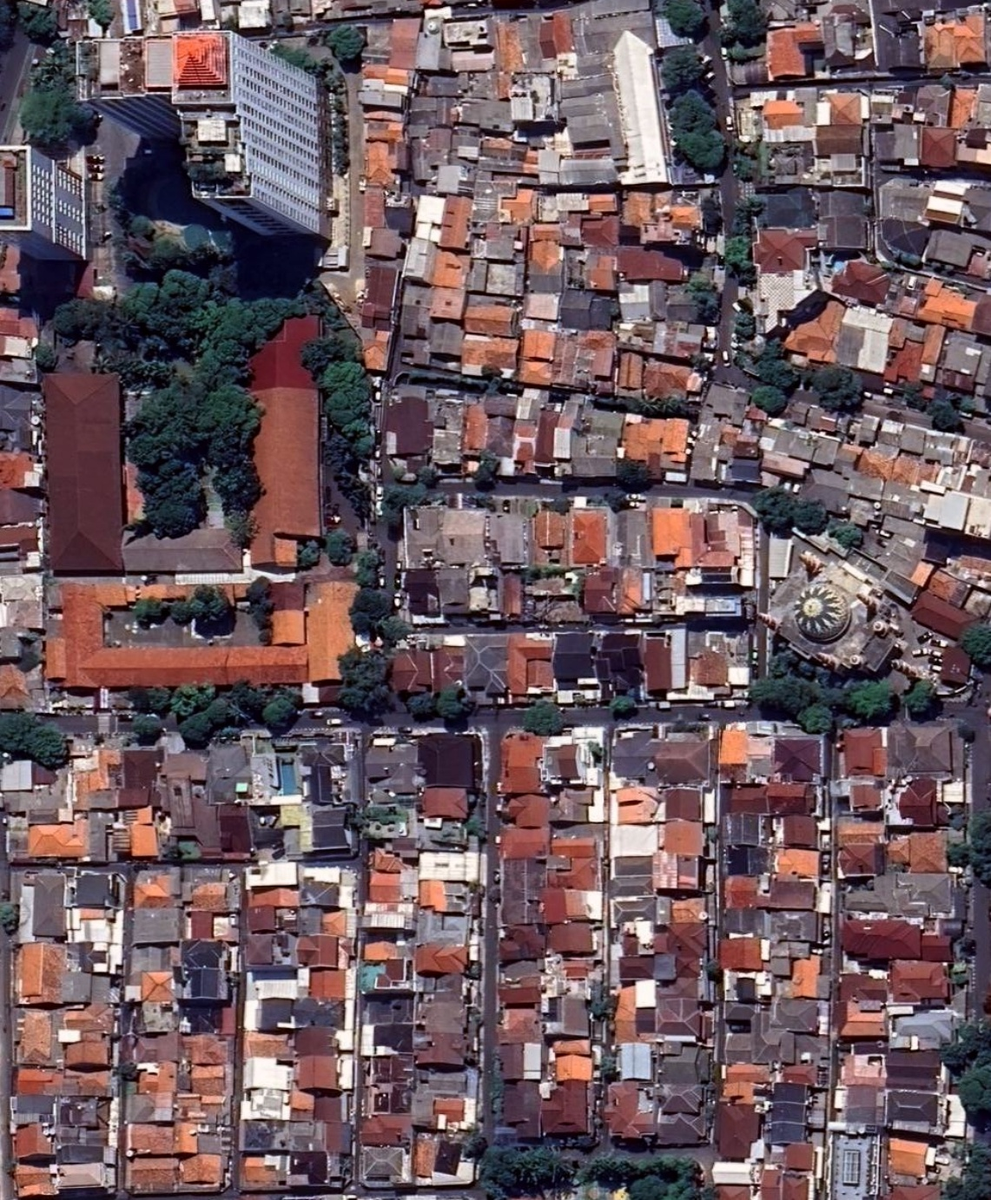building: (30, 0, 389, 261), (45, 580, 308, 684), (236, 304, 334, 572), (754, 537, 920, 694), (868, 423, 991, 560), (47, 370, 122, 570), (602, 26, 669, 190), (1, 143, 87, 260), (733, 226, 819, 338), (156, 745, 228, 866), (882, 316, 989, 397), (405, 114, 493, 200), (862, 508, 948, 588), (558, 73, 630, 168), (782, 572, 864, 655), (571, 0, 658, 76), (769, 530, 819, 662), (551, 399, 626, 482), (868, 0, 951, 71), (724, 85, 822, 142), (552, 323, 624, 397), (308, 577, 359, 681), (123, 529, 243, 573), (622, 415, 695, 485), (739, 133, 824, 193), (831, 302, 899, 375), (782, 291, 847, 365), (688, 629, 756, 697), (395, 304, 465, 367), (906, 587, 978, 647), (921, 9, 990, 71), (384, 386, 432, 474), (614, 317, 711, 359), (724, 1011, 799, 1065), (691, 500, 752, 566), (413, 187, 474, 253), (921, 484, 991, 540), (11, 940, 72, 1004), (900, 718, 964, 779), (827, 252, 895, 309), (655, 1039, 705, 1115), (10, 868, 65, 937), (365, 736, 419, 806), (848, 871, 930, 917), (718, 721, 776, 786), (915, 277, 981, 334), (296, 738, 351, 806), (406, 237, 475, 291), (417, 1066, 480, 1124), (618, 279, 701, 323), (363, 10, 422, 71), (640, 191, 703, 248), (763, 17, 820, 80), (821, 0, 874, 67), (598, 627, 647, 699), (870, 214, 932, 270), (796, 461, 859, 516), (888, 775, 953, 828), (842, 917, 921, 960), (689, 414, 737, 484), (817, 190, 873, 250), (29, 806, 93, 858), (417, 1133, 478, 1187), (545, 729, 603, 785), (106, 806, 164, 862), (500, 857, 545, 928), (509, 69, 565, 126), (418, 733, 478, 786), (873, 174, 935, 225), (508, 629, 556, 692), (886, 1089, 951, 1135), (759, 420, 828, 463), (501, 730, 547, 794), (460, 331, 522, 378), (840, 726, 892, 782), (887, 827, 950, 873), (544, 1077, 592, 1137), (888, 1007, 958, 1048), (431, 395, 470, 468), (443, 507, 492, 565), (754, 185, 820, 228), (360, 263, 402, 330), (556, 633, 597, 701), (405, 501, 447, 567), (463, 634, 509, 694), (206, 742, 254, 799), (402, 281, 470, 321), (487, 510, 533, 569), (11, 1004, 56, 1064), (647, 626, 686, 695), (494, 19, 527, 100), (609, 1082, 654, 1141), (652, 506, 694, 568), (891, 961, 951, 1004), (617, 246, 688, 282), (775, 732, 826, 782), (68, 969, 124, 1014), (753, 442, 813, 484), (401, 566, 444, 624), (560, 289, 620, 330), (245, 861, 302, 904), (611, 725, 658, 777), (559, 149, 623, 187), (922, 226, 976, 271), (870, 122, 924, 167), (834, 1085, 884, 1133), (701, 379, 751, 427), (719, 1102, 761, 1159), (611, 506, 650, 567), (886, 1051, 944, 1092), (570, 506, 610, 565), (612, 779, 661, 827), (567, 243, 617, 290), (503, 1079, 542, 1139), (897, 872, 954, 913), (133, 865, 187, 908), (299, 865, 357, 905), (418, 1093, 482, 1129), (304, 805, 354, 851), (219, 799, 257, 859), (641, 360, 694, 403), (1, 386, 38, 447), (781, 952, 830, 998), (265, 607, 316, 651), (531, 508, 569, 566), (370, 832, 420, 876), (126, 966, 185, 1003), (471, 257, 525, 297), (874, 565, 923, 609), (530, 208, 585, 247), (668, 924, 709, 976), (126, 1153, 179, 1193), (635, 992, 684, 1035), (784, 310, 820, 368), (465, 297, 521, 334), (769, 909, 828, 944), (653, 1109, 703, 1150), (296, 1055, 354, 1090), (365, 138, 407, 186), (290, 1120, 349, 1154), (192, 868, 242, 908), (0, 307, 40, 357), (286, 1154, 341, 1190), (473, 178, 518, 222), (911, 81, 954, 127), (358, 1148, 410, 1186), (66, 1031, 118, 1069), (886, 1136, 933, 1178), (949, 82, 991, 129), (772, 876, 830, 910), (659, 742, 712, 779), (471, 221, 524, 258), (288, 1089, 351, 1120), (2, 523, 41, 573), (361, 1112, 415, 1148), (130, 907, 181, 945), (1, 663, 42, 710), (422, 1034, 482, 1066), (768, 783, 826, 816), (419, 911, 473, 946), (423, 851, 482, 883), (70, 907, 121, 944), (770, 996, 821, 1033), (581, 566, 620, 614), (722, 1065, 777, 1099), (365, 957, 418, 992), (770, 812, 823, 847), (12, 1117, 55, 1160), (422, 971, 478, 1004), (459, 100, 518, 131), (182, 966, 230, 1004), (363, 1022, 418, 1055), (652, 854, 701, 891), (548, 889, 601, 923), (393, 647, 433, 692), (839, 1002, 889, 1038), (720, 934, 765, 973), (552, 788, 605, 821), (66, 1000, 119, 1033), (548, 856, 602, 888), (302, 931, 354, 964), (659, 997, 704, 1035), (183, 1033, 233, 1067), (614, 347, 648, 397), (413, 19, 445, 72), (528, 241, 564, 288), (245, 997, 296, 1030), (132, 1062, 180, 1097), (302, 965, 356, 996), (61, 1095, 115, 1126), (657, 894, 711, 925), (358, 57, 412, 88), (552, 992, 590, 1036), (74, 870, 119, 907), (128, 1031, 180, 1063), (488, 414, 514, 478), (421, 1004, 482, 1031), (362, 1082, 415, 1113), (418, 944, 471, 975), (249, 933, 300, 965), (369, 869, 420, 901), (301, 903, 357, 932), (61, 1132, 117, 1161), (364, 901, 418, 931), (300, 998, 352, 1029), (840, 972, 892, 1003), (842, 1051, 888, 1086), (2, 487, 42, 527), (421, 882, 471, 914), (724, 904, 771, 938), (176, 1093, 231, 1122), (180, 1152, 223, 1189), (920, 125, 957, 168), (72, 940, 120, 973), (238, 1119, 287, 1151), (499, 925, 545, 959), (246, 967, 298, 997), (664, 784, 706, 821), (665, 819, 707, 856), (504, 824, 551, 857), (725, 875, 772, 908), (184, 1002, 234, 1033), (728, 970, 778, 1001), (466, 402, 491, 464), (551, 920, 595, 955), (721, 811, 765, 846), (359, 326, 394, 370), (129, 1125, 177, 1157), (2, 450, 45, 485), (815, 124, 862, 156), (243, 1059, 293, 1089), (499, 1008, 543, 1042), (424, 785, 469, 818), (839, 841, 878, 879), (240, 1153, 281, 1189), (57, 1163, 111, 1190), (240, 1088, 287, 1119), (296, 1029, 352, 1055), (366, 931, 418, 959), (248, 902, 298, 931), (777, 847, 825, 877), (64, 1068, 117, 1095), (1, 627, 43, 661), (409, 94, 455, 125), (614, 982, 639, 1039), (826, 91, 869, 124), (727, 846, 774, 876), (728, 783, 775, 813), (515, 421, 542, 473), (955, 127, 991, 166), (618, 567, 646, 617), (504, 186, 539, 226), (584, 210, 619, 250), (537, 407, 561, 465), (184, 937, 226, 970), (367, 1055, 416, 1083), (849, 410, 885, 448), (123, 748, 158, 787), (617, 1041, 652, 1080), (133, 1002, 180, 1031), (941, 644, 975, 684), (848, 782, 889, 815), (443, 566, 469, 618), (244, 1033, 294, 1060), (924, 193, 966, 225), (130, 1093, 173, 1124), (507, 794, 550, 825), (132, 945, 181, 972), (443, 17, 490, 45), (521, 291, 563, 322), (727, 58, 769, 89), (368, 997, 418, 1023), (840, 819, 888, 846), (1, 355, 41, 387), (189, 909, 233, 938), (615, 824, 660, 852), (773, 939, 811, 972), (965, 184, 991, 232), (557, 1052, 597, 1083), (452, 48, 496, 76), (497, 977, 544, 1003), (360, 79, 407, 105), (1, 601, 44, 629), (363, 114, 406, 142), (15, 1166, 55, 1196), (831, 440, 864, 476), (617, 952, 655, 983), (722, 455, 764, 483), (895, 423, 930, 456), (609, 876, 657, 900), (621, 195, 654, 229), (808, 434, 841, 468), (2, 574, 42, 602), (13, 1093, 55, 1119), (845, 495, 880, 526), (521, 329, 557, 359), (789, 400, 826, 429), (18, 1069, 60, 1094), (464, 69, 501, 97), (711, 1159, 758, 1181), (367, 182, 389, 229), (847, 474, 885, 501), (420, 70, 461, 95), (551, 837, 599, 858), (783, 1061, 825, 1085), (518, 357, 554, 385), (191, 1066, 228, 1093), (275, 581, 307, 612), (484, 390, 518, 419), (611, 901, 655, 923), (537, 145, 562, 183), (368, 229, 403, 256), (787, 1144, 817, 1175), (924, 932, 955, 962), (497, 1041, 521, 1079), (969, 295, 991, 336), (771, 1121, 808, 1145), (654, 948, 680, 982), (772, 1099, 808, 1123), (783, 1175, 816, 1200), (891, 1183, 942, 1199), (612, 856, 657, 874), (802, 1033, 831, 1060), (774, 1081, 809, 1103), (725, 1000, 758, 1023), (870, 94, 898, 121), (760, 1170, 783, 1200), (676, 977, 706, 1000), (800, 466, 820, 500), (530, 659, 552, 689), (718, 1183, 757, 1199), (830, 154, 861, 174), (176, 1123, 195, 1152), (880, 418, 904, 436)
tree: (114, 242, 232, 355), (660, 85, 736, 183), (187, 294, 301, 353), (122, 380, 202, 463), (136, 455, 214, 540), (14, 76, 99, 150), (197, 378, 264, 465), (320, 358, 379, 456), (748, 481, 831, 543), (0, 707, 75, 774), (191, 330, 263, 399), (92, 329, 175, 388), (177, 690, 244, 752), (50, 292, 123, 347), (337, 646, 390, 716), (167, 581, 233, 637), (369, 469, 431, 528), (349, 584, 412, 641), (753, 335, 812, 393), (717, 0, 774, 55), (32, 35, 85, 94), (808, 361, 866, 414), (210, 460, 266, 513), (475, 1142, 525, 1200), (946, 1138, 991, 1200), (750, 670, 815, 710), (257, 682, 307, 733), (845, 672, 898, 720), (330, 464, 379, 515), (178, 217, 226, 269), (300, 330, 359, 372), (686, 271, 728, 326), (823, 508, 870, 555), (324, 17, 369, 66), (901, 675, 947, 721), (271, 38, 326, 75), (662, 47, 706, 92), (958, 1058, 991, 1117), (750, 378, 795, 420), (431, 681, 474, 724), (936, 1033, 979, 1076), (146, 233, 188, 274), (794, 699, 837, 739), (21, 1, 60, 44), (168, 682, 218, 715), (246, 577, 276, 632), (620, 393, 683, 419), (321, 431, 359, 473), (541, 1143, 580, 1183), (205, 252, 243, 293), (525, 695, 567, 732), (970, 812, 990, 886), (725, 236, 755, 284), (299, 277, 334, 318), (404, 684, 441, 722), (602, 1147, 639, 1184), (668, 0, 706, 36), (320, 301, 353, 342), (130, 682, 174, 712), (960, 1019, 991, 1061), (961, 622, 991, 665), (230, 682, 274, 711), (222, 508, 256, 544), (927, 399, 966, 430), (82, 0, 120, 31), (325, 526, 353, 567), (356, 545, 382, 589), (727, 39, 770, 65), (519, 1148, 549, 1185), (700, 193, 727, 232), (133, 598, 171, 625), (769, 638, 798, 673), (732, 194, 756, 236), (730, 142, 755, 182), (321, 65, 351, 97), (610, 689, 641, 718), (631, 1175, 668, 1199), (1, 1, 19, 49), (462, 814, 490, 843), (300, 537, 325, 568), (617, 464, 645, 490), (902, 386, 930, 412), (667, 1177, 699, 1199), (117, 310, 144, 336), (130, 211, 157, 237), (327, 147, 354, 173), (812, 663, 839, 689), (580, 1159, 607, 1185), (947, 842, 972, 870), (368, 808, 404, 827), (820, 684, 846, 710), (548, 488, 573, 514), (132, 716, 162, 737), (117, 247, 142, 272), (468, 486, 493, 511), (734, 310, 755, 338), (115, 1058, 139, 1082), (465, 1133, 488, 1158), (36, 341, 57, 368), (473, 464, 495, 489), (674, 1155, 697, 1178), (331, 93, 353, 117), (958, 390, 980, 414), (598, 1051, 618, 1077), (603, 490, 625, 513), (415, 465, 437, 487), (590, 997, 613, 1017), (651, 1155, 672, 1176), (218, 722, 241, 740), (634, 1157, 654, 1177), (350, 811, 370, 831), (333, 129, 350, 151), (960, 724, 977, 745), (692, 350, 711, 368), (799, 658, 817, 677), (333, 113, 350, 133), (0, 902, 15, 924), (732, 350, 750, 368), (960, 937, 976, 954), (587, 740, 603, 756), (393, 463, 408, 478), (703, 1186, 717, 1200), (663, 1154, 678, 1167), (955, 972, 969, 985), (481, 364, 495, 377)
